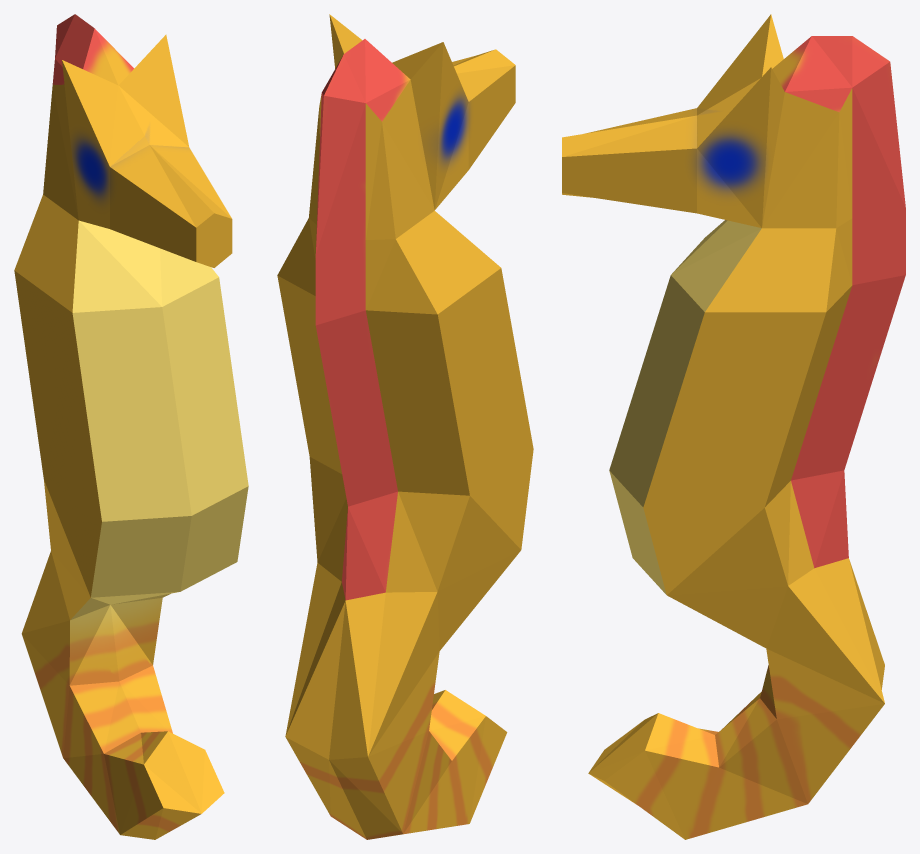
Rendered from InGameSeaHorse.obj.
3 renders of one model, left to right at view 1: azimuth 30°, elevation 25°; view 2: azimuth 150°, elevation 25°; view 3: azimuth 270°, elevation 25°, orthographic. The views are drawn at different scales.
Parts seen in each view (by area): view 1: Cube; view 2: Cube; view 3: Cube.
Boxes of the visible parts, box(x1,y1,x2,y2) form: Cube: box(14, 14, 248, 839); Cube: box(277, 14, 533, 839); Cube: box(562, 14, 905, 839).
Size of the model in its own units: 0.66 by 3.3 by 1.28.
1 material, 1 textured.
